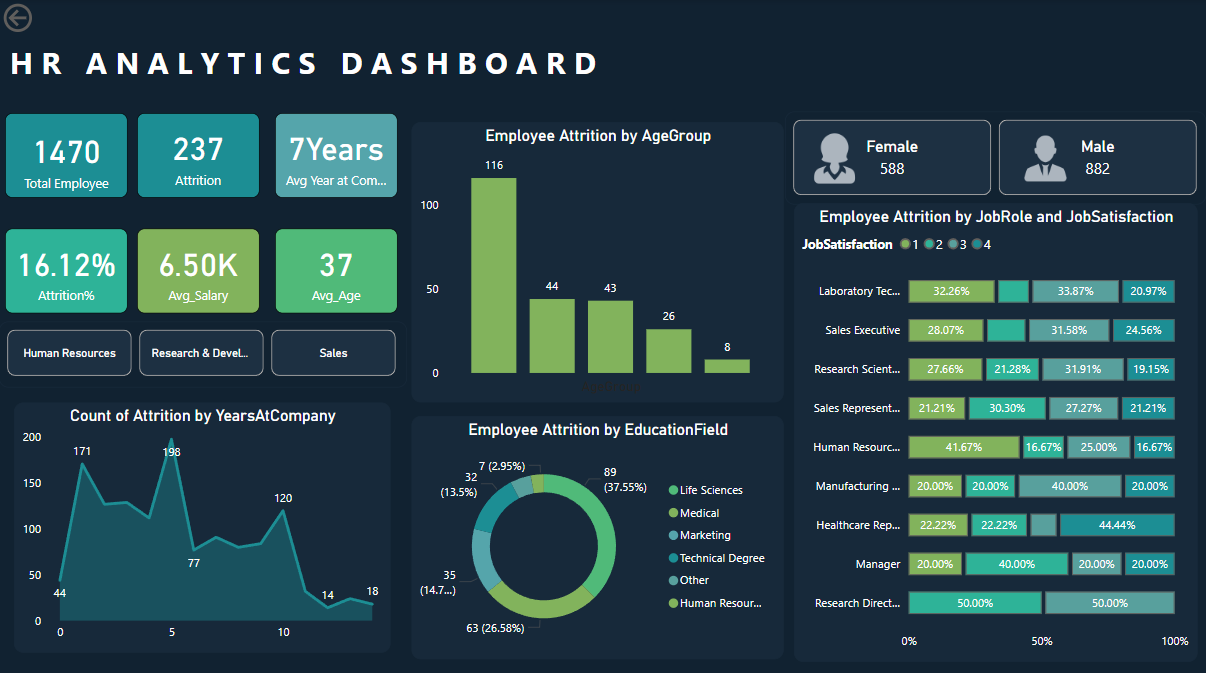

This screenshot's page, from the dashboard's own definition file:
{"tool":"powerbi","page":{"name":"Page 1","canvas":[1280,720],"ordinal":0},"visuals":[{"type":"image","box":[854.2,130.4,63.6,77.9],"z":0},{"type":"image","box":[1080,136.8,58.9,65.2],"z":1000},{"type":"card","fields":{"Values":["HR_Analytics.Employee_Count"]},"box":[6.4,120.4,130,90],"z":2000},{"type":"card","fields":{"Values":["HR_Analytics.Employee_Attrition"]},"box":[146.3,120.4,130,90],"z":3000},{"type":"card","fields":{"Values":["HR_Analytics.Years_With_Text"]},"box":[292.7,120.9,130,90],"z":4000},{"type":"card","fields":{"Values":["HR_Analytics.Attrition%"]},"box":[6.4,242.8,130,90],"z":5000},{"type":"card","fields":{"Values":["HR_Analytics.Avg_Salary"]},"box":[146.3,242.8,130,90],"z":6000},{"type":"actionButton","box":[0,0,100,40],"z":7000},{"type":"card","fields":{"Values":["HR_Analytics.Avg_Age"]},"box":[292.7,243.4,130,90],"z":8000},{"type":"areaChart","fields":{"Category":["HR_Analytics.YearsAtCompany"],"Y":["CountNonNull(HR_Analytics.Attrition)"]},"box":[15.9,427.9,399.2,265.6],"z":9000},{"type":"donutChart","title":"Employee Attrition by EducationField","fields":{"Y":["HR_Analytics.Employee_Attrition"],"Category":["HR_Analytics.EducationField"]},"box":[437.4,442.2,394.5,257.7],"z":10000},{"type":"clusteredColumnChart","title":"Employee Attrition by AgeGroup","fields":{"Category":["HR_Analytics.AgeGroup"],"Y":["HR_Analytics.Employee_Attrition"]},"box":[437.4,130.4,394.5,297.4],"z":11000},{"type":"hundredPercentStackedBarChart","title":"Employee Attrition by JobRole and JobSatisfaction","fields":{"Y":["HR_Analytics.Employee_Attrition"],"Series":["HR_Analytics.JobSatisfaction"],"Category":["HR_Analytics.JobRole"]},"box":[843,216.3,427.9,486.7],"z":12000},{"type":"advancedSlicerVisual","fields":{"Values":["HR_Analytics.Gender"]},"box":[833.5,119.3,447,98.6],"z":13000},{"type":"advancedSlicerVisual","fields":{"Values":["HR_Analytics.Department"]},"box":[0,342,432.6,70],"z":14000},{"type":"textbox","box":[6.4,39.8,637.8,60.4],"z":14001}]}

Visuals, with their boxes in screenshot pixels (x1, y1, x2, y2), scaled from the page's 1280x720 canvas onto the 1206x673 screenshot:
image: [805,122,865,195]
image: [1018,128,1073,189]
card - HR_Analytics.Employee_Count: [6,113,129,197]
card - HR_Analytics.Employee_Attrition: [138,113,260,197]
card - HR_Analytics.Years_With_Text: [276,113,398,197]
card - HR_Analytics.Attrition%: [6,227,129,311]
card - HR_Analytics.Avg_Salary: [138,227,260,311]
actionButton: [0,0,94,37]
card - HR_Analytics.Avg_Age: [276,228,398,312]
areaChart - HR_Analytics.YearsAtCompany x CountNonNull(HR_Analytics.Attrition): [15,400,391,648]
"Employee Attrition by EducationField" donutChart: [412,413,784,654]
"Employee Attrition by AgeGroup" clusteredColumnChart: [412,122,784,400]
"Employee Attrition by JobRole and JobSatisfaction" hundredPercentStackedBarChart: [794,202,1197,657]
advancedSlicerVisual - HR_Analytics.Gender: [785,112,1205,204]
advancedSlicerVisual - HR_Analytics.Department: [0,320,408,385]
textbox: [6,37,607,94]
